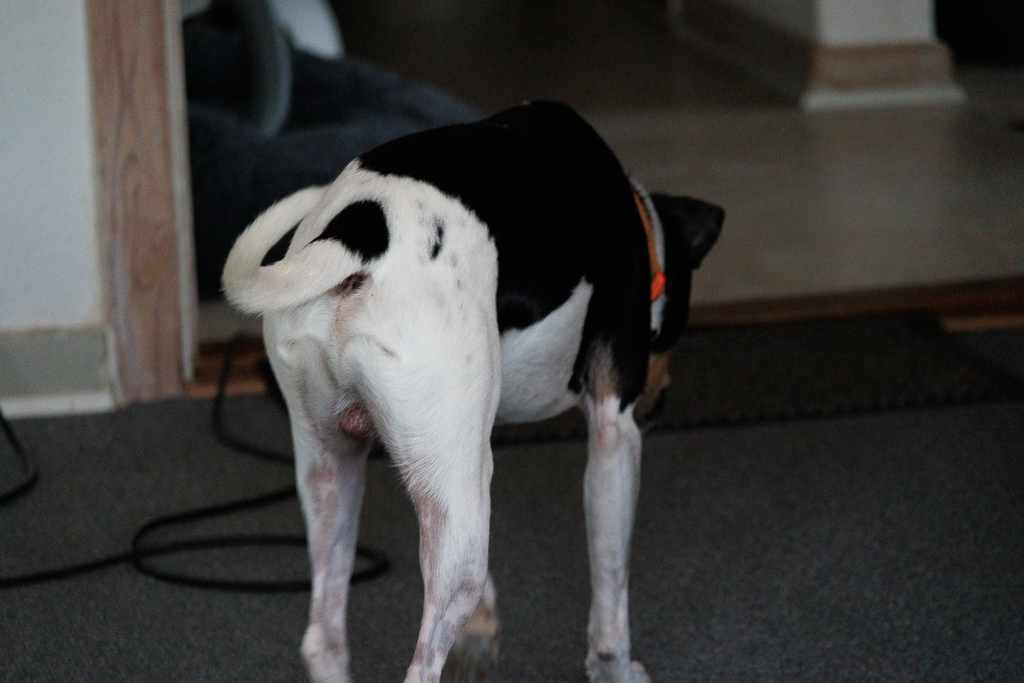Dog: (218, 85, 732, 683)
